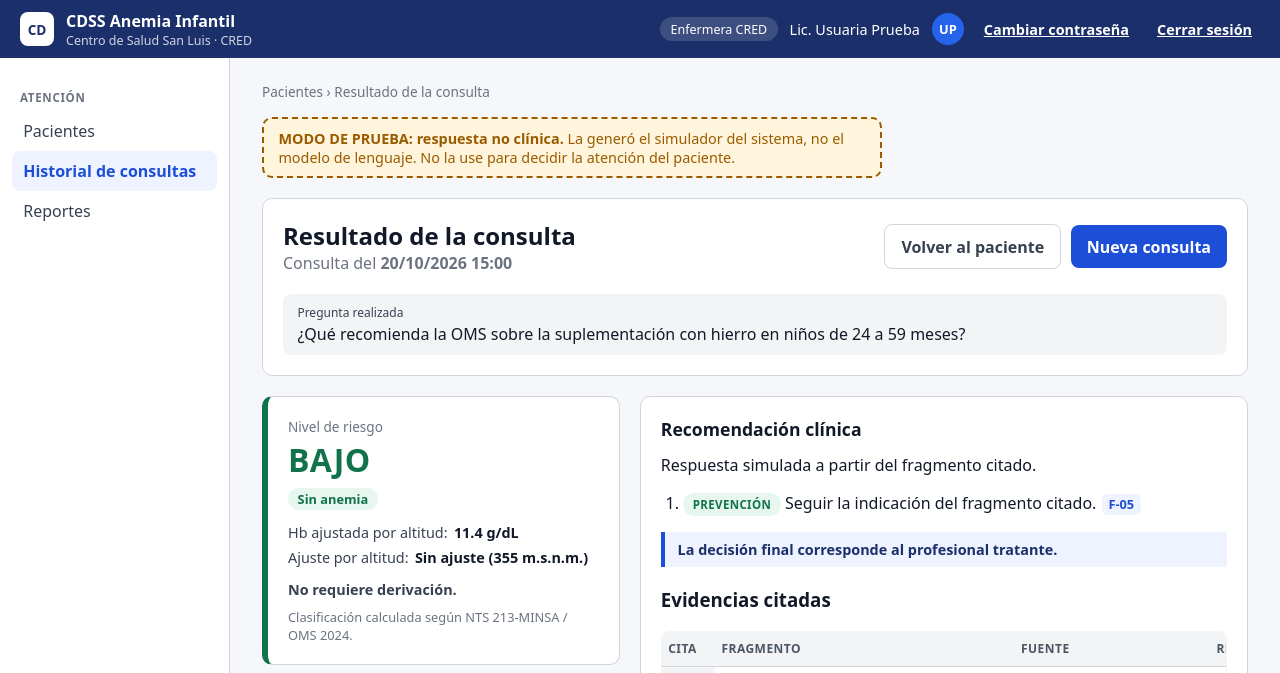
M05 · Resultado de la consulta (VERIFICADA) › «Nueva consulta» abre M04 del paciente
Click the button "Nueva consulta" at (1149, 247), box 1071,226 -> 1227,268
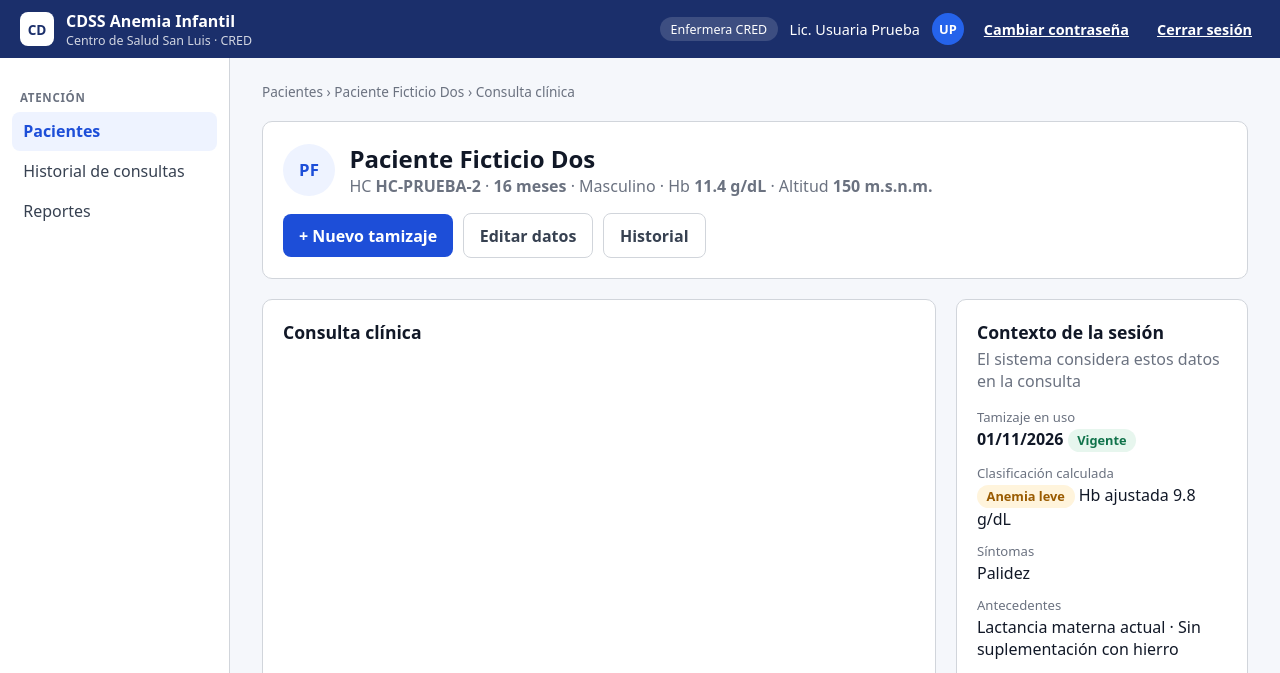
Now the heading "Consulta clínica" is shown, box 283,320 -> 422,344
